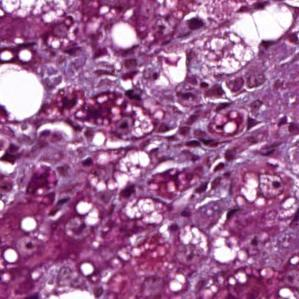ballooning: (228, 0, 299, 56), (0, 61, 47, 123)
